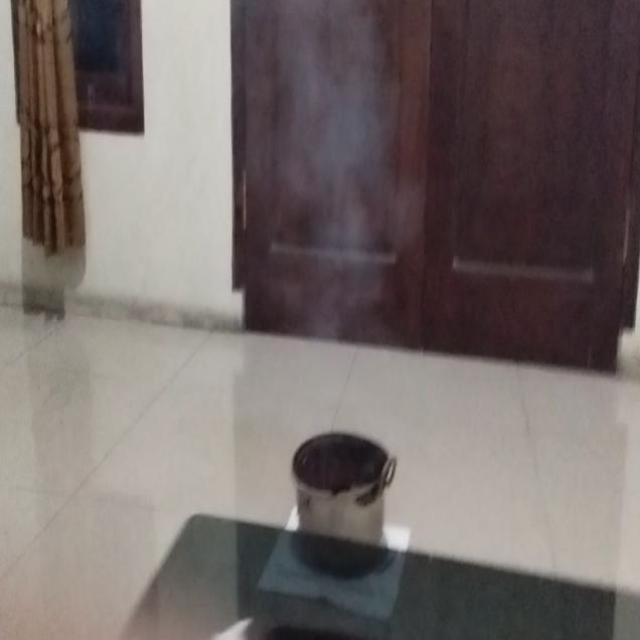fire: (260, 7, 402, 349)
